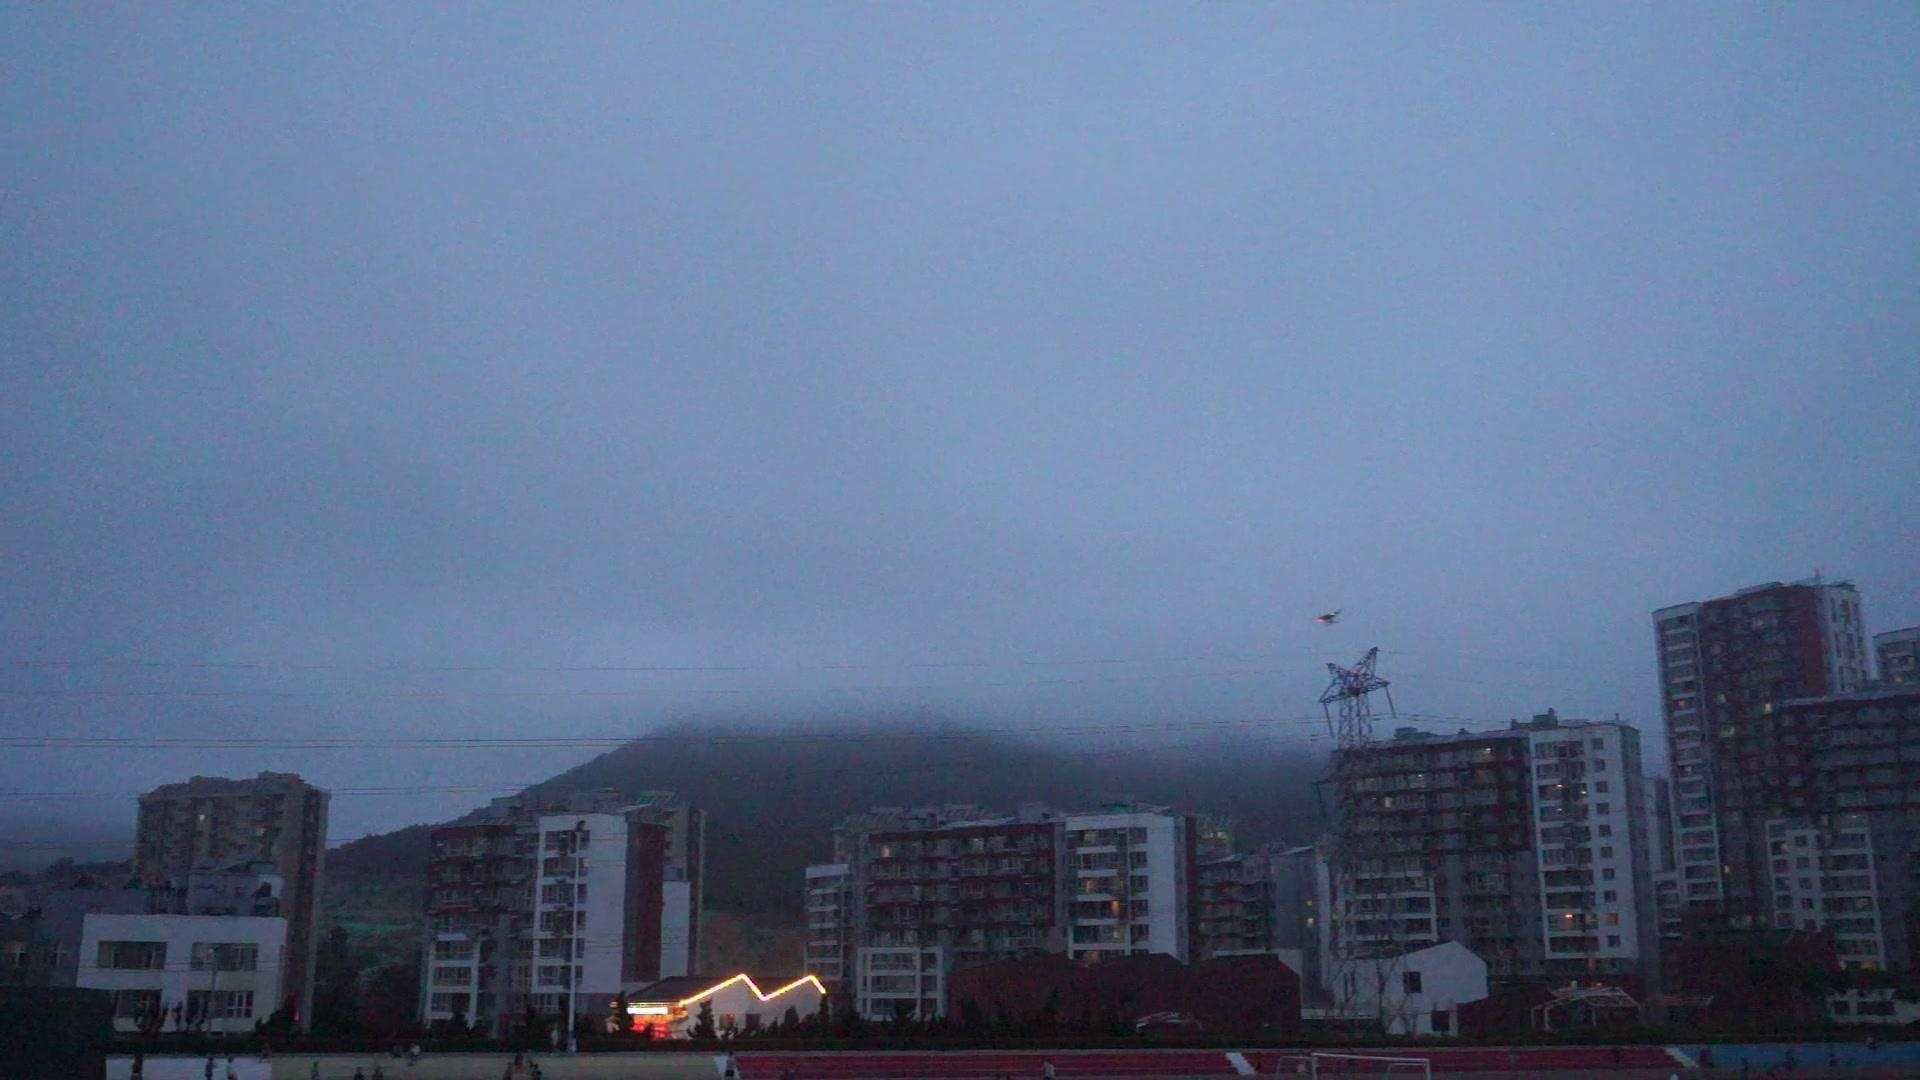UAV: (1313, 609, 1344, 626)
